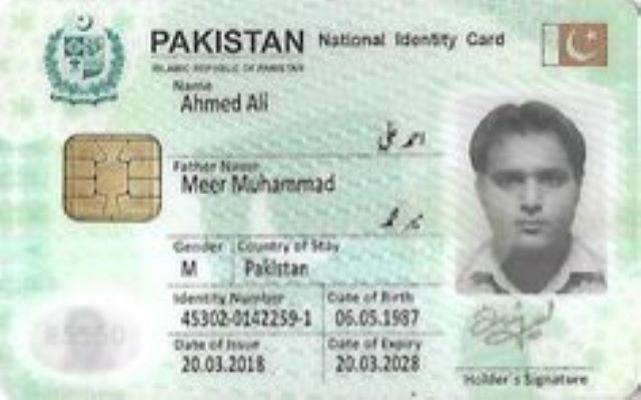fname: (179, 170, 340, 196)
name: (172, 90, 273, 116)
number: (176, 307, 316, 330)
